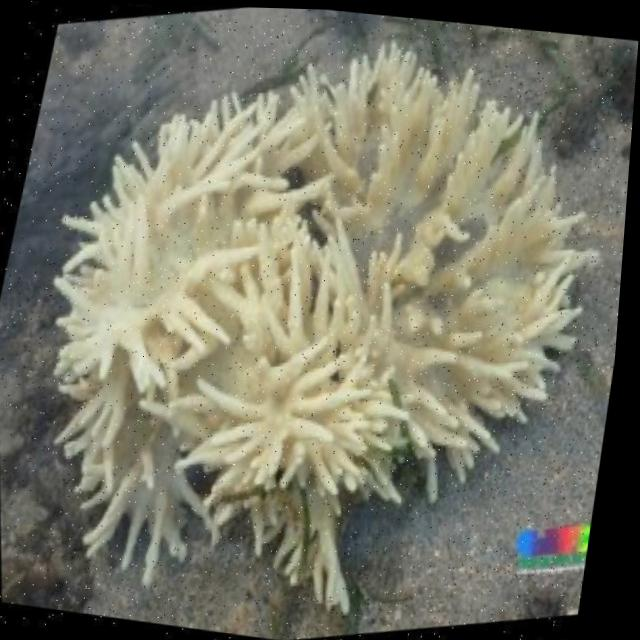Bleached Coral: (17, 11, 620, 628)
